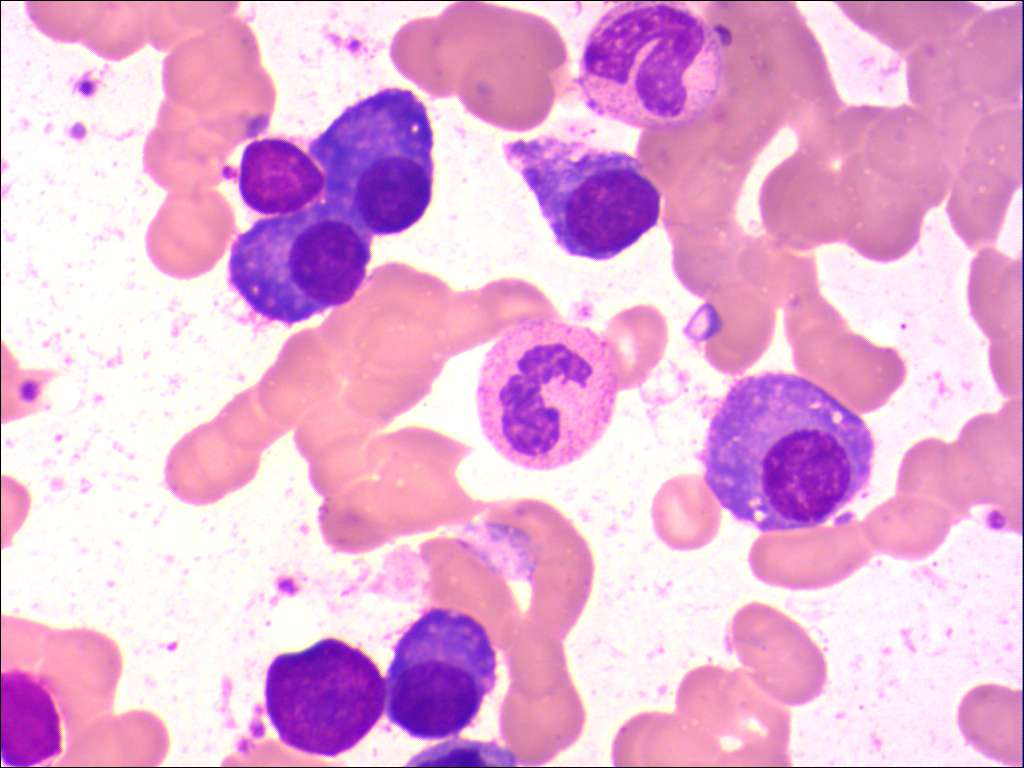5: (473, 317, 620, 474)
51: (304, 84, 438, 248), (498, 135, 665, 264), (222, 199, 381, 332), (383, 605, 498, 743)
52: (700, 368, 880, 533)
6: (575, 1, 725, 135)
x: (261, 634, 388, 761), (220, 129, 333, 216), (1, 666, 68, 768)
